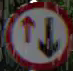Two way: (2, 1, 70, 65)
